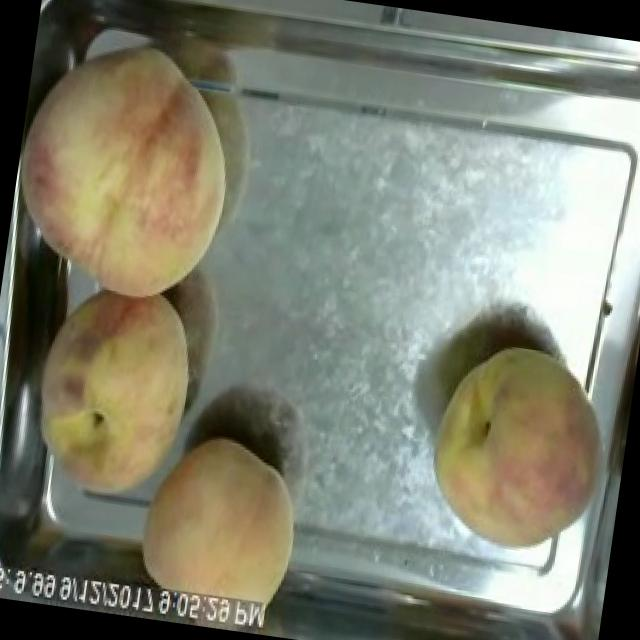Fruit: (3, 3, 266, 319), (410, 327, 634, 570), (11, 268, 217, 518), (125, 418, 321, 612)
